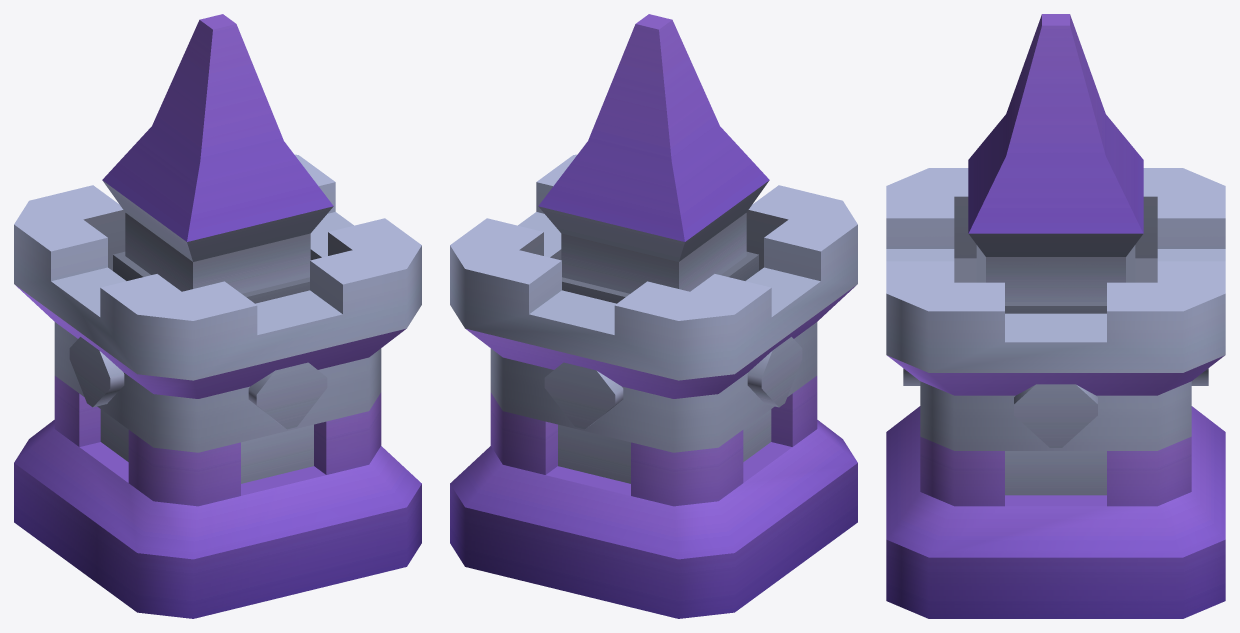
File: td-tower-square.glb
The picture shows the model from 3 angles, left to right: view 1: azimuth 30°, elevation 25°; view 2: azimuth 150°, elevation 25°; view 3: azimuth 270°, elevation 25°; orthographic projection. The views are drawn at different scales.
Visible parts, largest first — view 1: tower-square-build-f; view 2: tower-square-build-f; view 3: tower-square-build-f.
Part boxes in pixels (box(x1,y1,x2,y2)): tower-square-build-f: box(14, 14, 421, 618); tower-square-build-f: box(450, 14, 857, 618); tower-square-build-f: box(886, 14, 1225, 618).
Size of the model in its own units: 1 by 1.71 by 1.
1 material, 1 textured.
